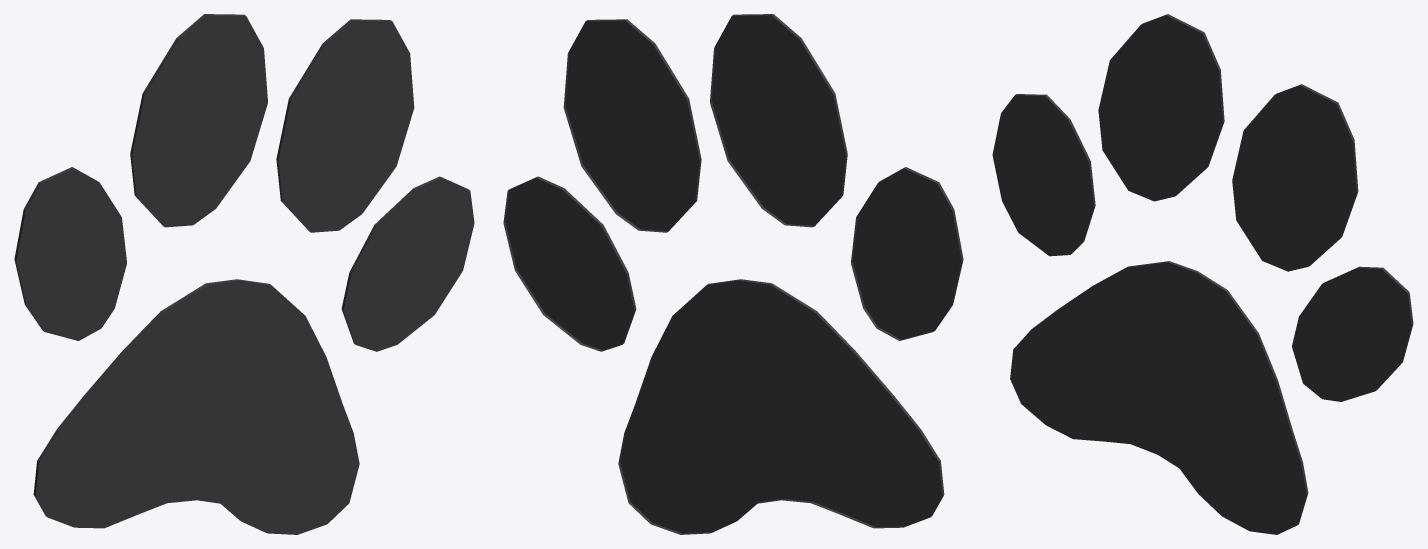
The model's file is paw_print.fbx.
The picture shows the model from 3 angles, left to right: view 1: azimuth 30°, elevation 25°; view 2: azimuth 150°, elevation 25°; view 3: azimuth 330°, elevation 25°; orthographic projection. The views are drawn at different scales.
Visible parts, largest first — view 1: paw_print; view 2: paw_print; view 3: paw_print.
Boxes of the visible parts, x1=… form: paw_print: x1=14, y1=14, x2=474, y2=534; paw_print: x1=503, y1=14, x2=963, y2=534; paw_print: x1=992, y1=14, x2=1413, y2=534.
Size of the model in its own units: 59 by 0.4458 by 66.67.
